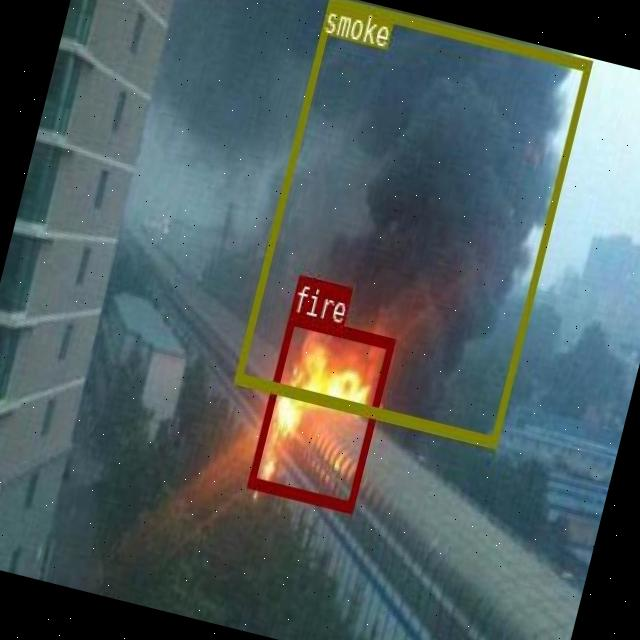fire: (246, 310, 395, 512)
smoke: (233, 0, 590, 444)
